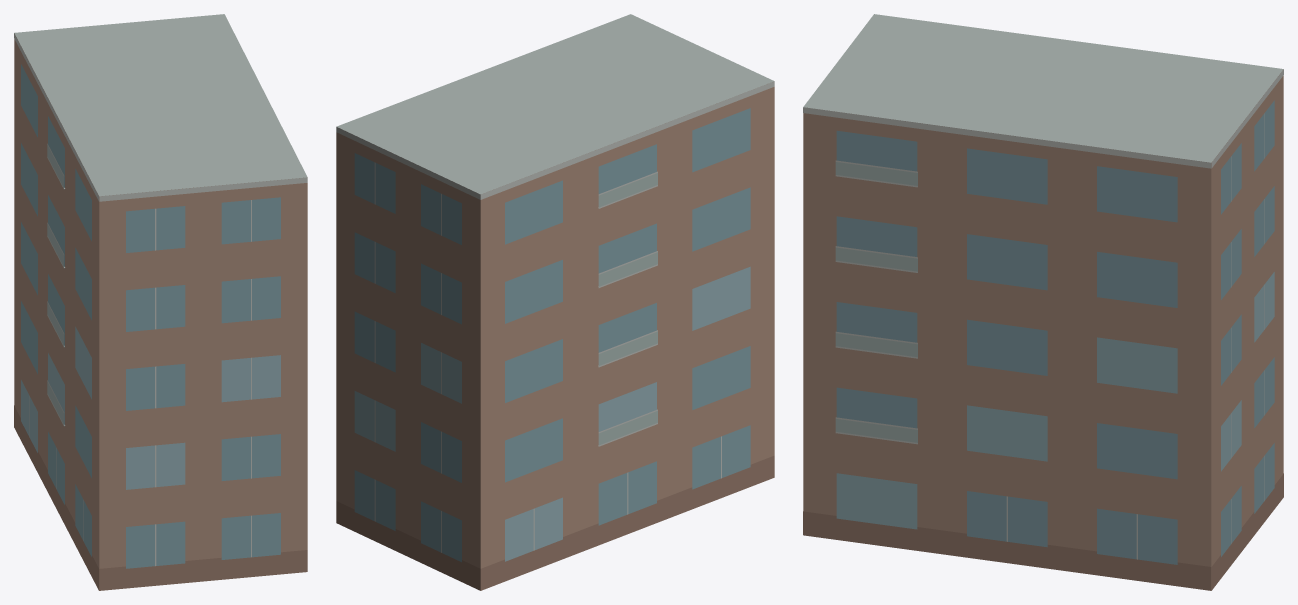
File: survey-upis-32716601.glb
3 views of the same model, side by side, from view 1: azimuth 30°, elevation 25°; view 2: azimuth 150°, elevation 25°; view 3: azimuth 270°, elevation 25° (orthographic). The views are drawn at different scales.
Parts seen in each view (by area): view 1: survey-upis-32716601.tmp; view 2: survey-upis-32716601.tmp; view 3: survey-upis-32716601.tmp.
Boxes of the visible parts, <box> form: survey-upis-32716601.tmp: <box>14,14,307,590</box>; survey-upis-32716601.tmp: <box>336,14,774,590</box>; survey-upis-32716601.tmp: <box>803,14,1283,590</box>.
Size of the model in its own units: 13.2 by 17.7 by 18.02.
